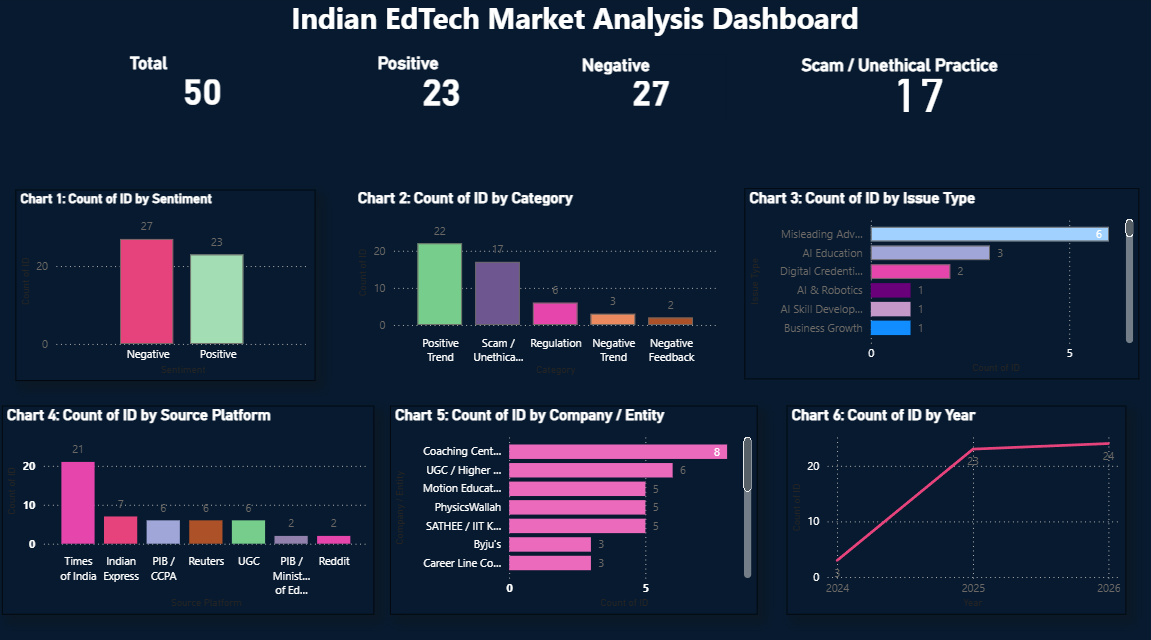

The page's visual inventory and layout, read from the dashboard file:
{"tool":"powerbi","page":{"name":"EdTech Market Dashboard","canvas":[1280,720],"ordinal":0},"visuals":[{"type":"textbox","box":[311.5,0,682.7,57.7],"z":0},{"type":"card","title":"Total","fields":{"Values":["CountNonNull(EdTech Data.ID)"]},"box":[141.7,65,170,76.7],"z":1000},{"type":"card","title":"Positive","fields":{"Values":["CountNonNull(EdTech Data.ID)"]},"box":[416.7,65,151.7,76.7],"z":2000},{"type":"card","title":"Negative","fields":{"Values":["CountNonNull(EdTech Data.ID)"]},"box":[641.7,66.7,163.3,75],"z":3000},{"type":"card","title":"Scam / Unethical Practice","fields":{"Values":["CountNonNull(EdTech Data.ID)"]},"box":[885.4,67.2,269,74.7],"z":4000},{"type":"clusteredColumnChart","title":"Chart 1: Count of ID by Sentiment","fields":{"Category":["EdTech Data.Sentiment"],"Y":["CountNonNull(EdTech Data.ID)"]},"box":[21,217.5,331.9,211.7],"z":5000},{"type":"clusteredColumnChart","title":"Chart 2: Count of ID by Category","fields":{"Category":["EdTech Data.Category"],"Y":["CountNonNull(EdTech Data.ID)"]},"box":[394.9,215.6,410.1,213.7],"z":6000},{"type":"clusteredBarChart","title":"Chart 3: Count of ID by Issue Type","fields":{"Category":["EdTech Data.Issue Type"],"Y":["CountNonNull(EdTech Data.ID)"]},"box":[827.9,215.6,436.8,211.7],"z":7000},{"type":"clusteredColumnChart","title":"Chart 4: Count of ID by Source Platform","fields":{"Category":["EdTech Data.Source Platform"],"Y":["CountNonNull(EdTech Data.ID)"]},"box":[5.7,455.9,412,230.8],"z":8000},{"type":"barChart","title":"Chart 5: Count of ID by Company / Entity","fields":{"Category":["EdTech Data.Company / Entity"],"Y":["CountNonNull(EdTech Data.ID)"]},"box":[434.9,455.9,406.3,230.8],"z":9000},{"type":"lineChart","title":" Chart 6: Count of ID by Year","fields":{"Category":["EdTech Data.Date.Variation.Date Hierarchy.Year","EdTech Data.Date.Variation.Date Hierarchy.Quarter","EdTech Data.Date.Variation.Date Hierarchy.Month","EdTech Data.Date.Variation.Date Hierarchy.Day"],"Y":["CountNonNull(EdTech Data.ID)"]},"box":[873.7,455.9,375.8,230.8],"z":10000}]}

Visuals, with their boxes in screenshot pixels (x1, y1, x2, y2), scaled from the page's 1280x720 canvas onto the 1151x640 screenshot:
textbox: (x1=280, y1=0, x2=894, y2=51)
"Total" card: (x1=127, y1=58, x2=280, y2=126)
"Positive" card: (x1=375, y1=58, x2=511, y2=126)
"Negative" card: (x1=577, y1=59, x2=724, y2=126)
"Scam / Unethical Practice" card: (x1=796, y1=60, x2=1038, y2=126)
"Chart 1: Count of ID by Sentiment" clusteredColumnChart: (x1=19, y1=193, x2=317, y2=382)
"Chart 2: Count of ID by Category" clusteredColumnChart: (x1=355, y1=192, x2=724, y2=382)
"Chart 3: Count of ID by Issue Type" clusteredBarChart: (x1=744, y1=192, x2=1137, y2=380)
"Chart 4: Count of ID by Source Platform" clusteredColumnChart: (x1=5, y1=405, x2=376, y2=610)
"Chart 5: Count of ID by Company / Entity" barChart: (x1=391, y1=405, x2=756, y2=610)
" Chart 6: Count of ID by Year" lineChart: (x1=786, y1=405, x2=1124, y2=610)
